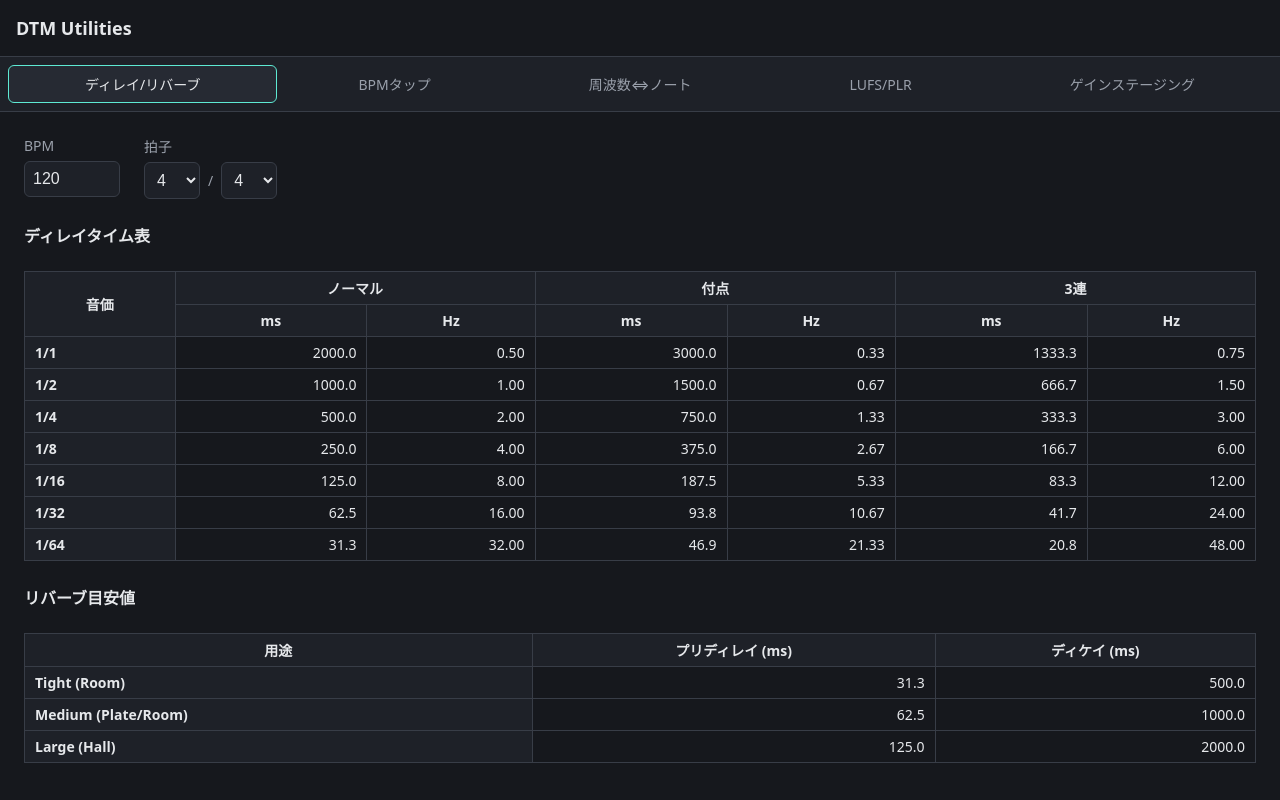
Test: App › switches the active panel when a different tab is clicked
Click the tab "BPMタップ" at (395, 84), box [281,65,508,103]
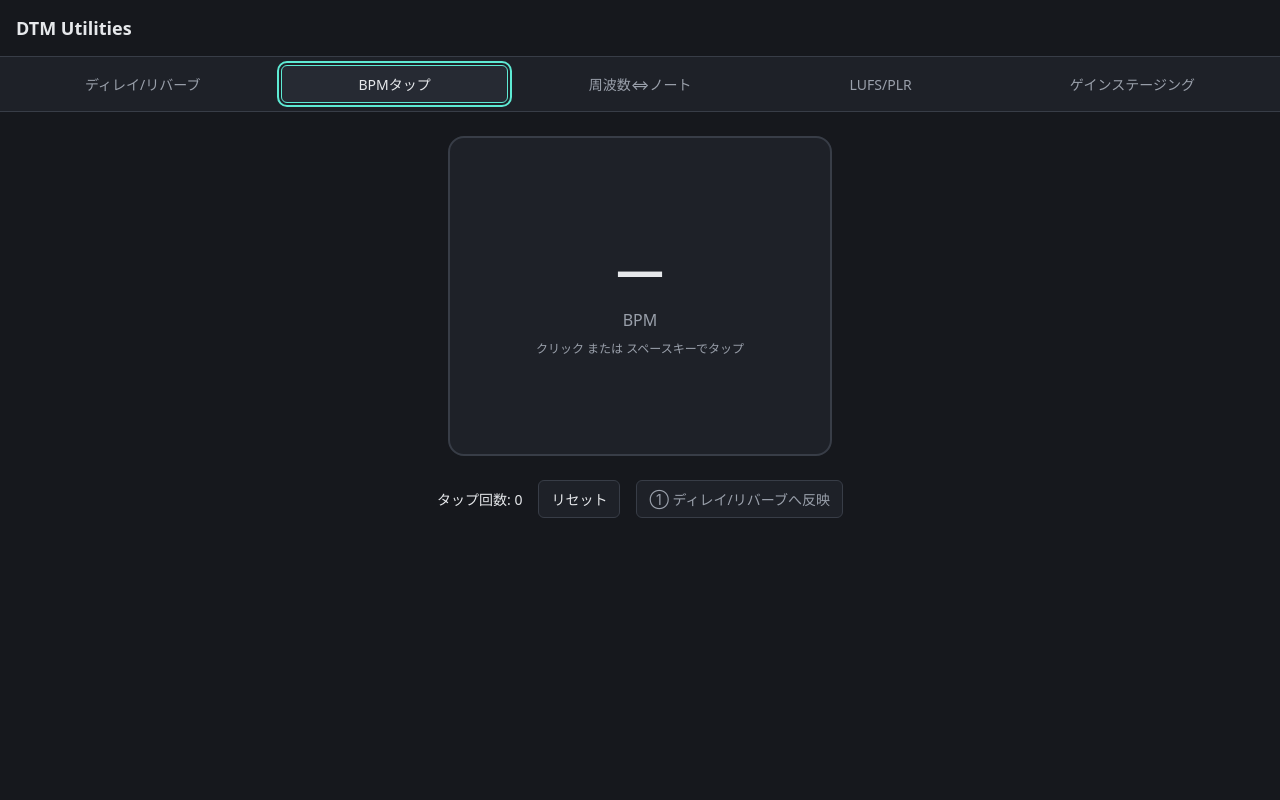
Expected: the text "タップ回数: 0" is shown, [437,489,522,509]
